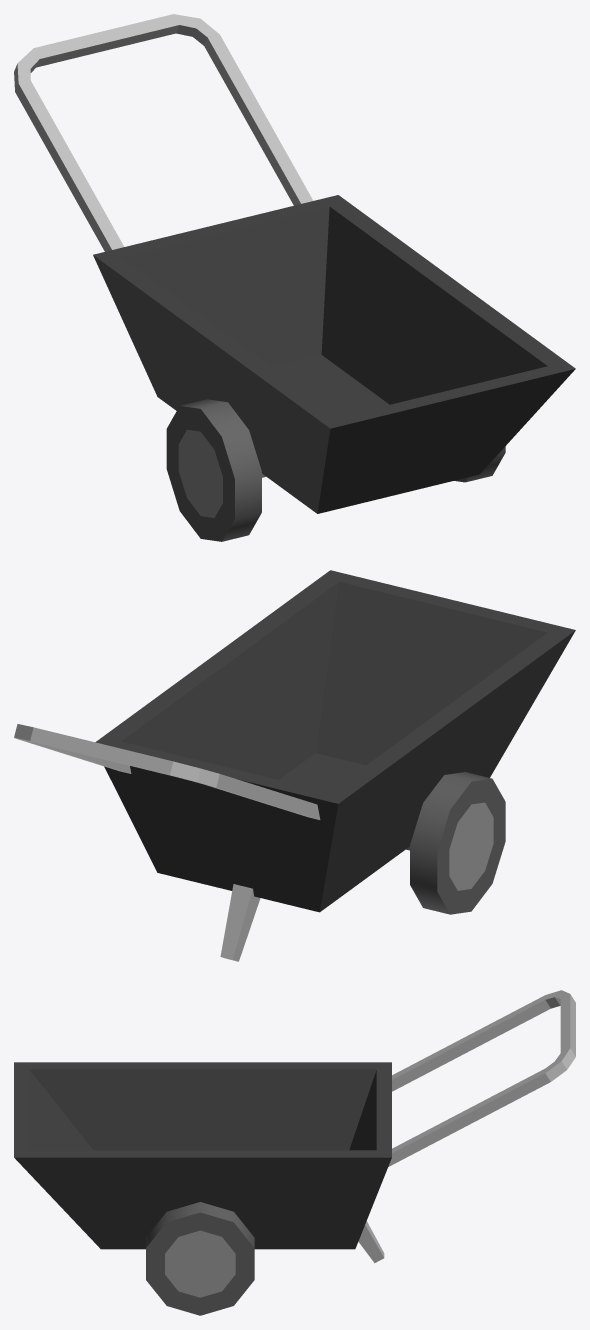
The model's file is cart_004.glb.
3 views of the same model, one above another, from view 1: azimuth 30°, elevation 25°; view 2: azimuth 150°, elevation 25°; view 3: azimuth 270°, elevation 25° (orthographic). The views are drawn at different scales.
Visible parts, largest first — view 1: cart_004; view 2: cart_004; view 3: cart_004.
Part boxes in pixels (x1=…): cart_004: x1=14, y1=14, x2=575, y2=541; cart_004: x1=14, y1=570, x2=575, y2=961; cart_004: x1=14, y1=990, x2=575, y2=1315.
Size of the model in its own units: 0.8309 by 0.8932 by 1.88.
1 material, 1 textured.
